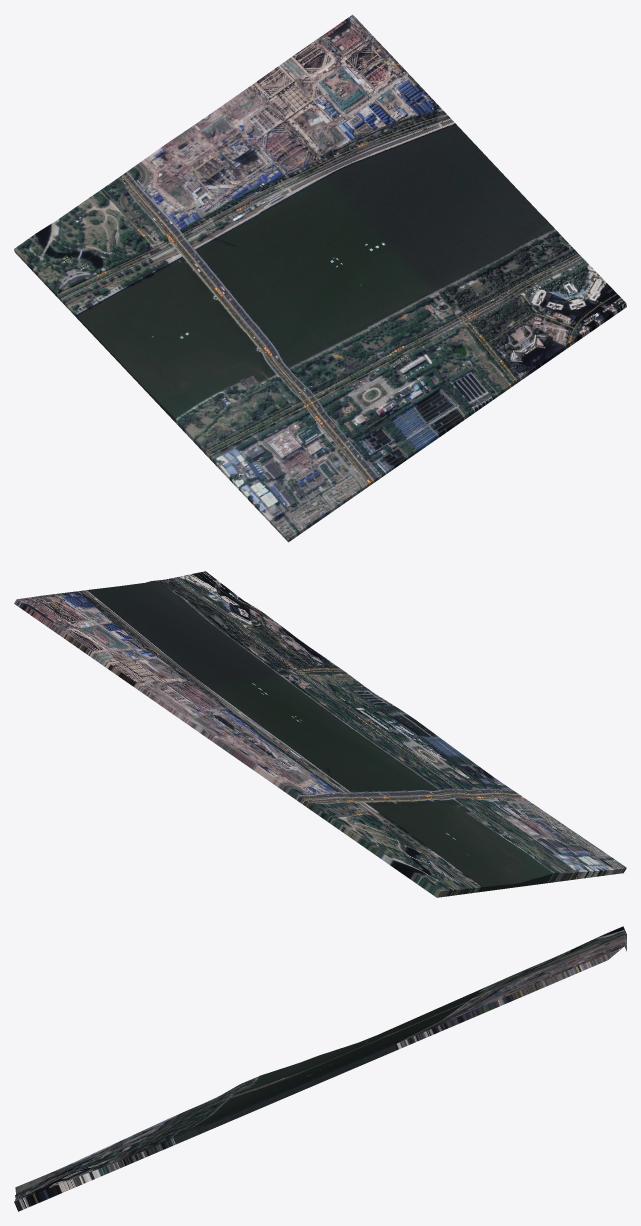
3 renders of one model, top to bottom at view 1: azimuth 30°, elevation 25°; view 2: azimuth 150°, elevation 25°; view 3: azimuth 270°, elevation 25°, orthographic. The views are drawn at different scales.
Parts seen in each view (by area): view 1: 1_6_13; view 2: 1_6_13; view 3: 1_6_13.
Boxes of the visible parts, x1=… form: 1_6_13: x1=14, y1=14, x2=626, y2=542; 1_6_13: x1=14, y1=571, x2=626, y2=897; 1_6_13: x1=14, y1=926, x2=626, y2=1211.
Bounding box in the file's own units: 1229 × 894 × 1127.
1 material, 1 textured.
